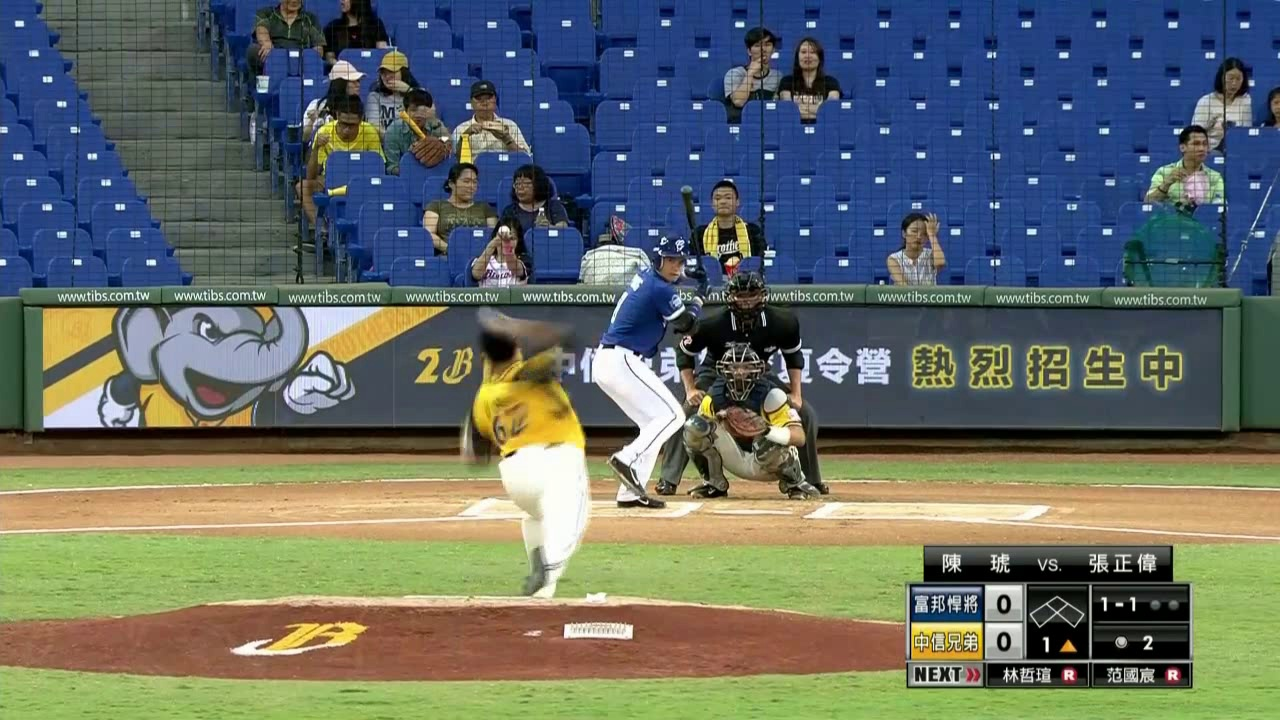ball: (482, 310, 494, 321)
base: (1024, 588, 1088, 631)
bat: (686, 188, 709, 287)
out: (1142, 591, 1191, 616)
score1: (990, 588, 1018, 621)
score2: (994, 628, 1023, 653)
session: (1029, 630, 1088, 654)
strikeball: (1094, 590, 1142, 615)
total: (1108, 626, 1162, 652)
